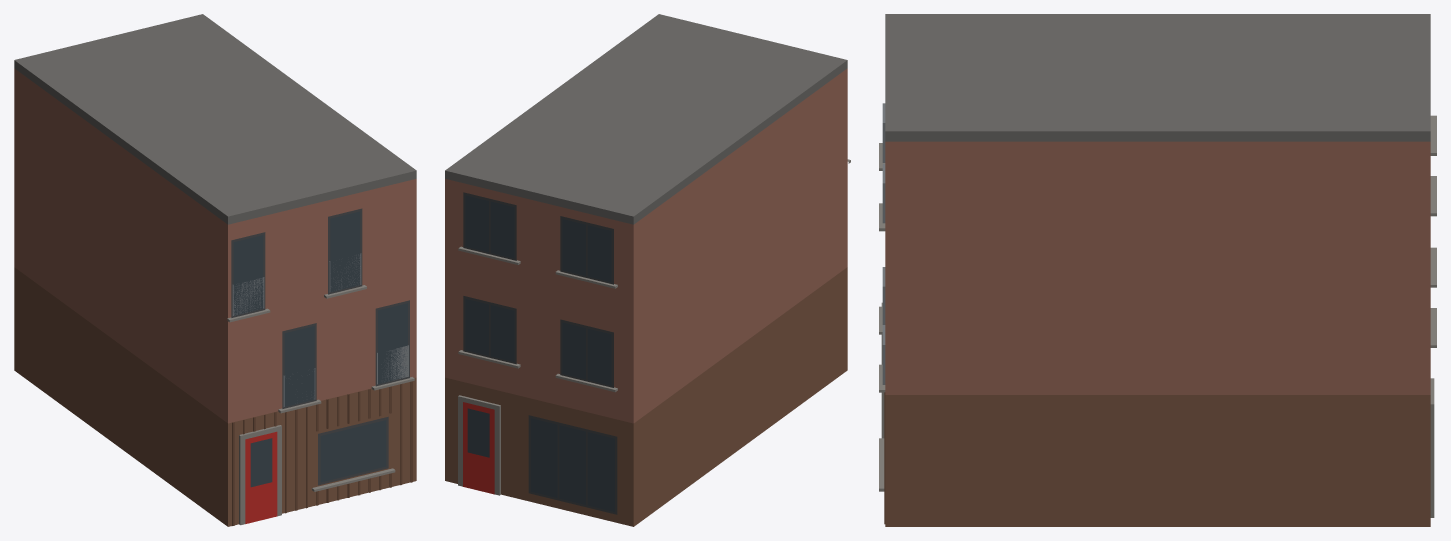
Rendered from zo-gk-gravendijk__red__3__flat__long__solid.glb.
3 renders of one model, left to right at view 1: azimuth 30°, elevation 25°; view 2: azimuth 150°, elevation 25°; view 3: azimuth 270°, elevation 25°, orthographic. The views are drawn at different scales.
Parts seen in each view (by area): view 1: zo-gk-gravendijk__red__3__flat__long__solid; view 2: zo-gk-gravendijk__red__3__flat__long__solid; view 3: zo-gk-gravendijk__red__3__flat__long__solid.
Boxes of the visible parts, <box> form: zo-gk-gravendijk__red__3__flat__long__solid: <box>14,14,416,526</box>; zo-gk-gravendijk__red__3__flat__long__solid: <box>445,14,850,526</box>; zo-gk-gravendijk__red__3__flat__long__solid: <box>879,14,1436,526</box>.
Size of the model in its own units: 5.38 by 8.41 by 10.75.
